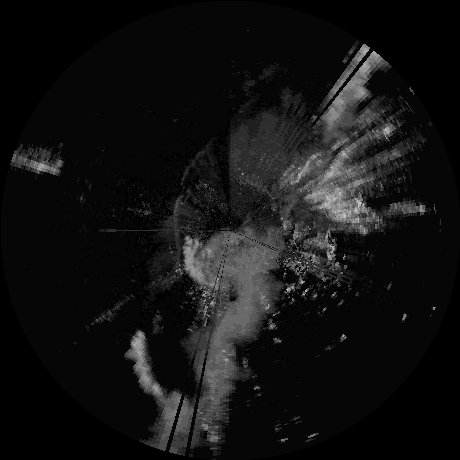frontgust: (170, 192, 183, 270), (182, 147, 207, 184)
